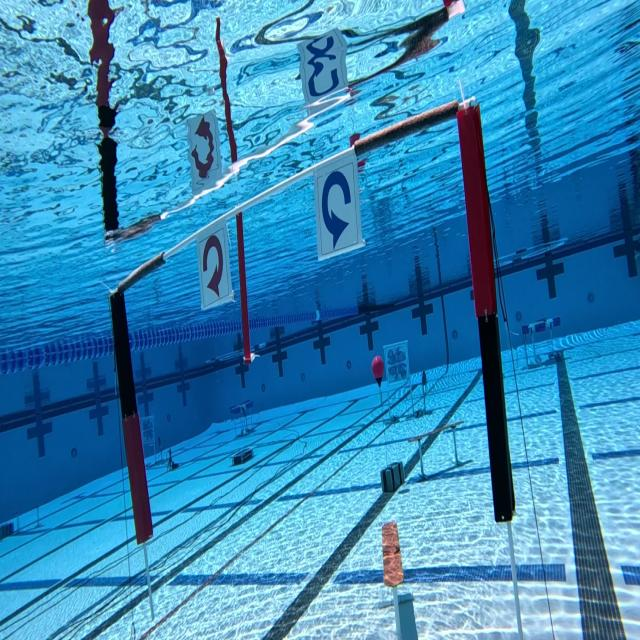blue_side: (312, 164, 366, 258)
red_side: (197, 230, 238, 317)
